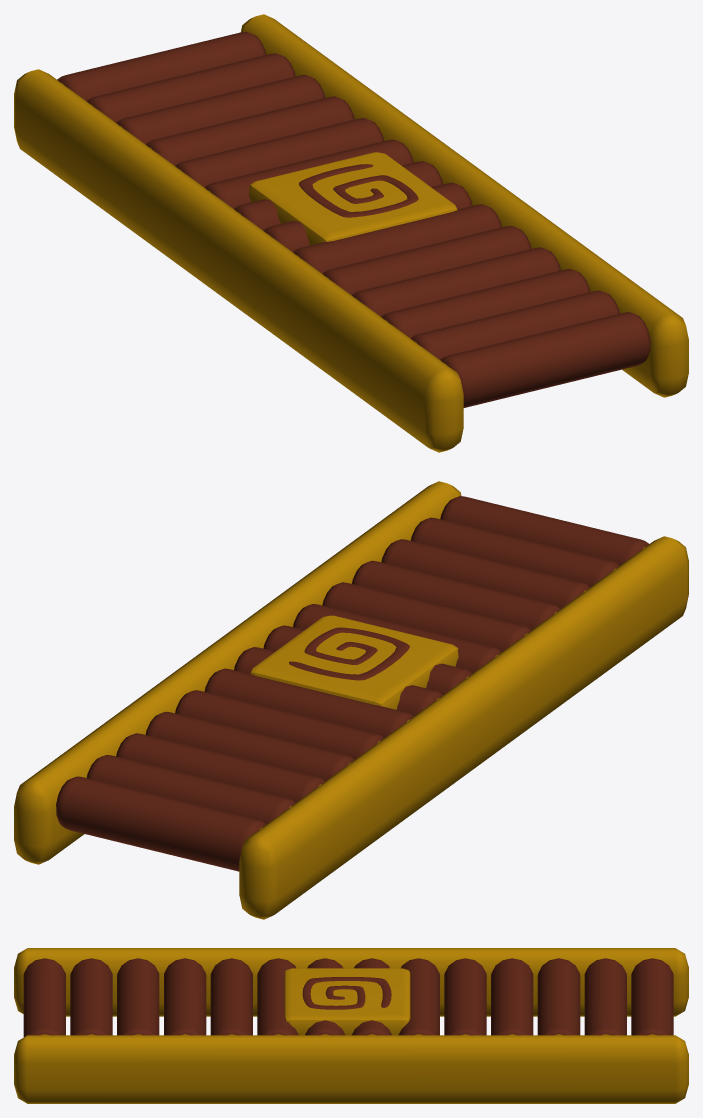
Rendered from Bridge.fbx.
3 renders of one model, top to bottom at view 1: azimuth 30°, elevation 25°; view 2: azimuth 150°, elevation 25°; view 3: azimuth 270°, elevation 25°, orthographic. The views are drawn at different scales.
Visible parts, largest first — view 1: Wood, Side, Side4, Symbol, Symbol1; view 2: Wood, Side, Side4, Symbol, Symbol1; view 3: Side4, Wood, Side, Symbol, Symbol1.
Part boxes in pixels (x1=…): Wood: x1=57, y1=31, x2=650, y2=407; Side: x1=14, y1=69, x2=463, y2=452; Side4: x1=241, y1=14, x2=688, y2=397; Symbol: x1=249, y1=152, x2=457, y2=245; Symbol1: x1=299, y1=164, x2=418, y2=217; Wood: x1=56, y1=496, x2=648, y2=871; Side: x1=239, y1=536, x2=688, y2=919; Side4: x1=14, y1=481, x2=461, y2=864; Symbol: x1=250, y1=615, x2=458, y2=709; Symbol1: x1=289, y1=627, x2=409, y2=680; Side4: x1=14, y1=1035, x2=688, y2=1103; Wood: x1=23, y1=958, x2=673, y2=1036; Side: x1=14, y1=948, x2=688, y2=1016; Symbol: x1=284, y1=968, x2=410, y2=1035; Symbol1: x1=302, y1=977, x2=391, y2=1009.
Size of the model in its own units: 3.48 by 1.08 by 9.74.
